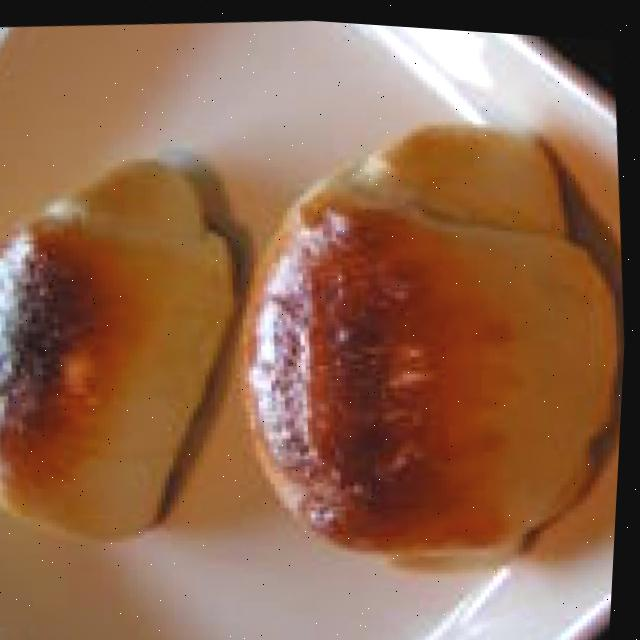面包点心: (0, 79, 637, 615)
